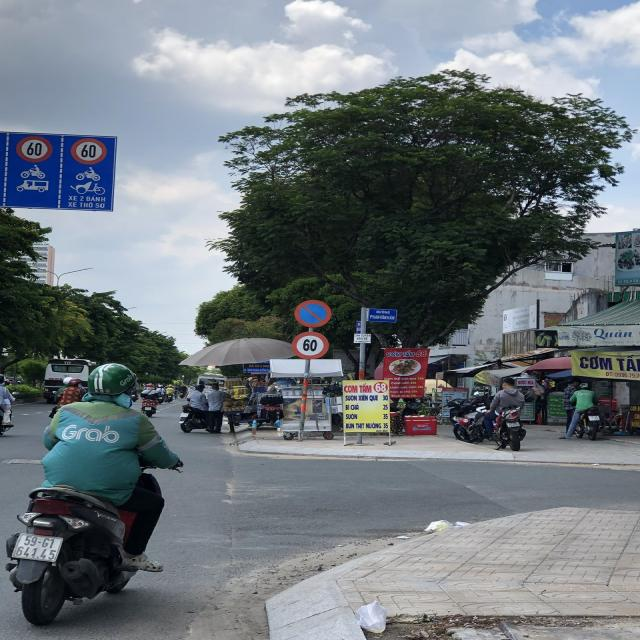Bien bao cam do xe: (293, 297, 333, 328)
Bien bao toc do toi da cho phep: (14, 132, 56, 165), (291, 331, 334, 361), (69, 134, 108, 167)
